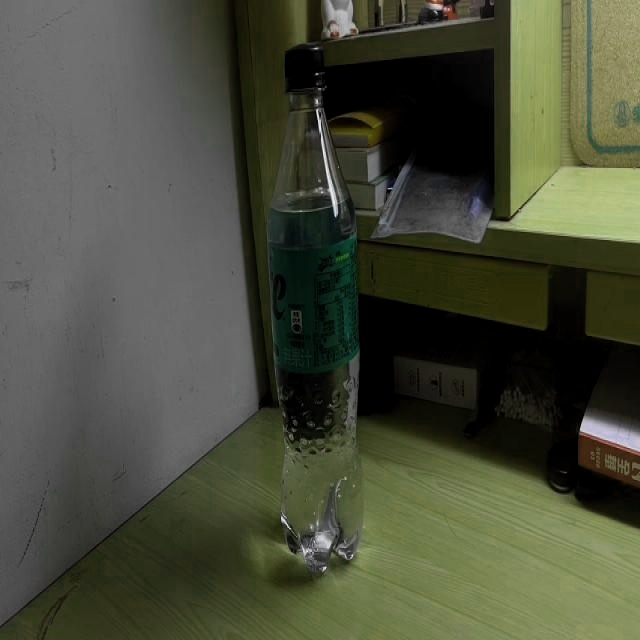Sprite: (266, 42, 360, 577)
